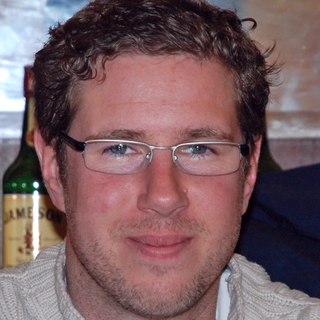eye: (171, 138, 225, 163), (95, 140, 147, 162)
